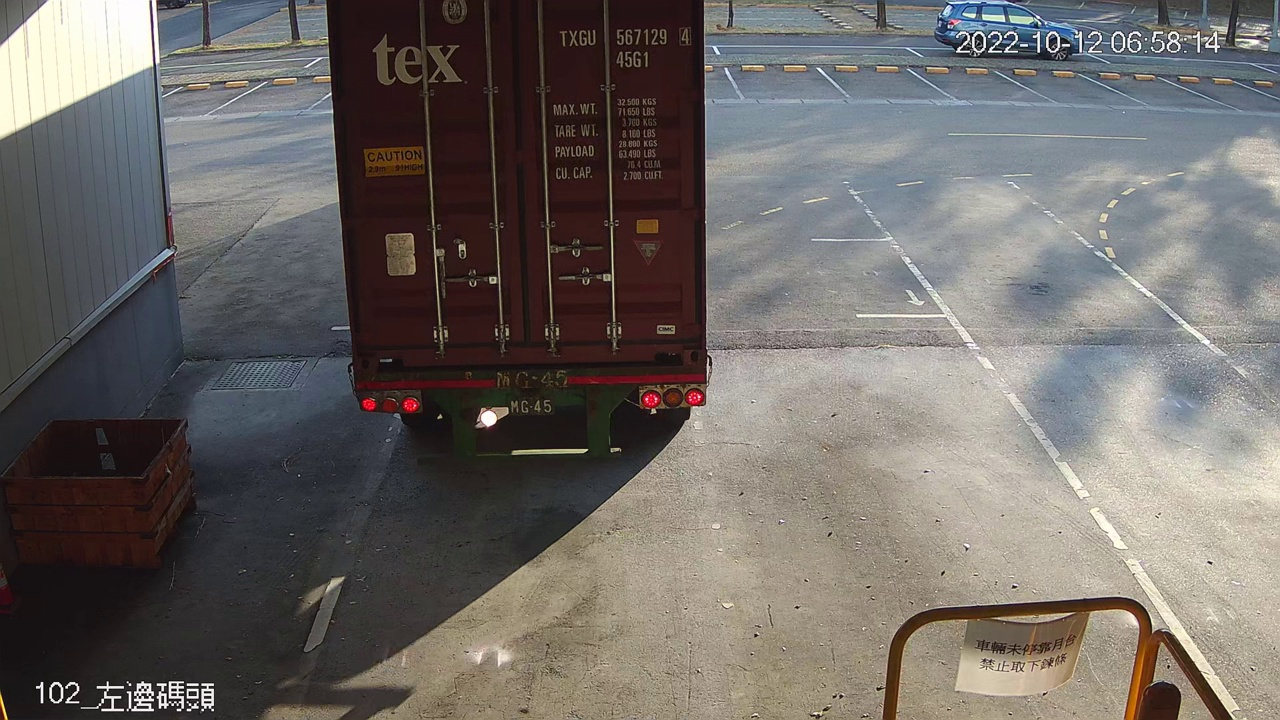container: (554, 19, 698, 70)
